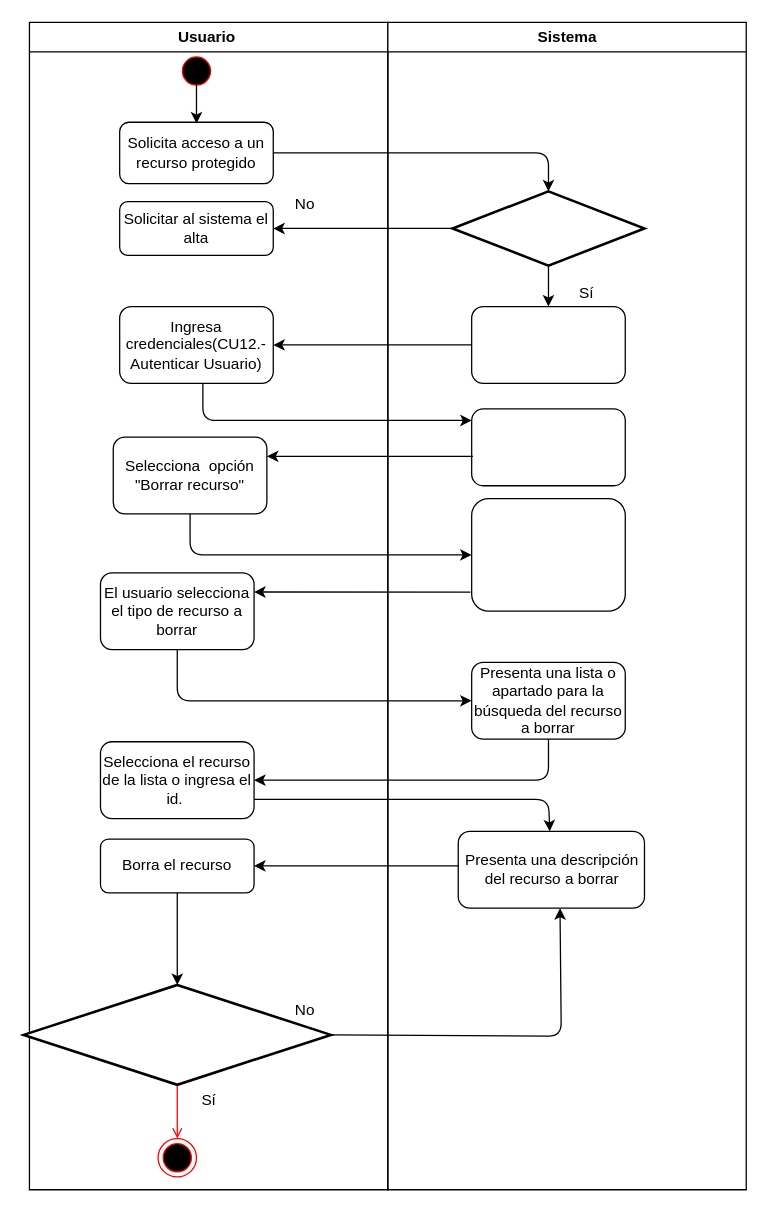
Some shapes in this 768 by 1212 pixel diagram are drawn without their labels. The shapes that lost their labels are listed below. From the top down, each one's box as (x1, y1, x2, y2) in pixels, then its label:
(451, 189, 645, 266): ¿Está dado de alta en el sistema?
(470, 305, 625, 383): Presenta interfaz de loggin
(470, 408, 625, 486): Presenta la interfaz de Usuario Interno
(470, 497, 625, 611): Proporciona lista de tipos de Recursos
(22, 983, 332, 1085): ¿Esta seguro que desea borrar el recurso?
